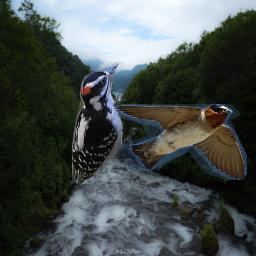Swallow: (114, 104, 247, 180)
Woodpecker: (72, 62, 138, 184)
